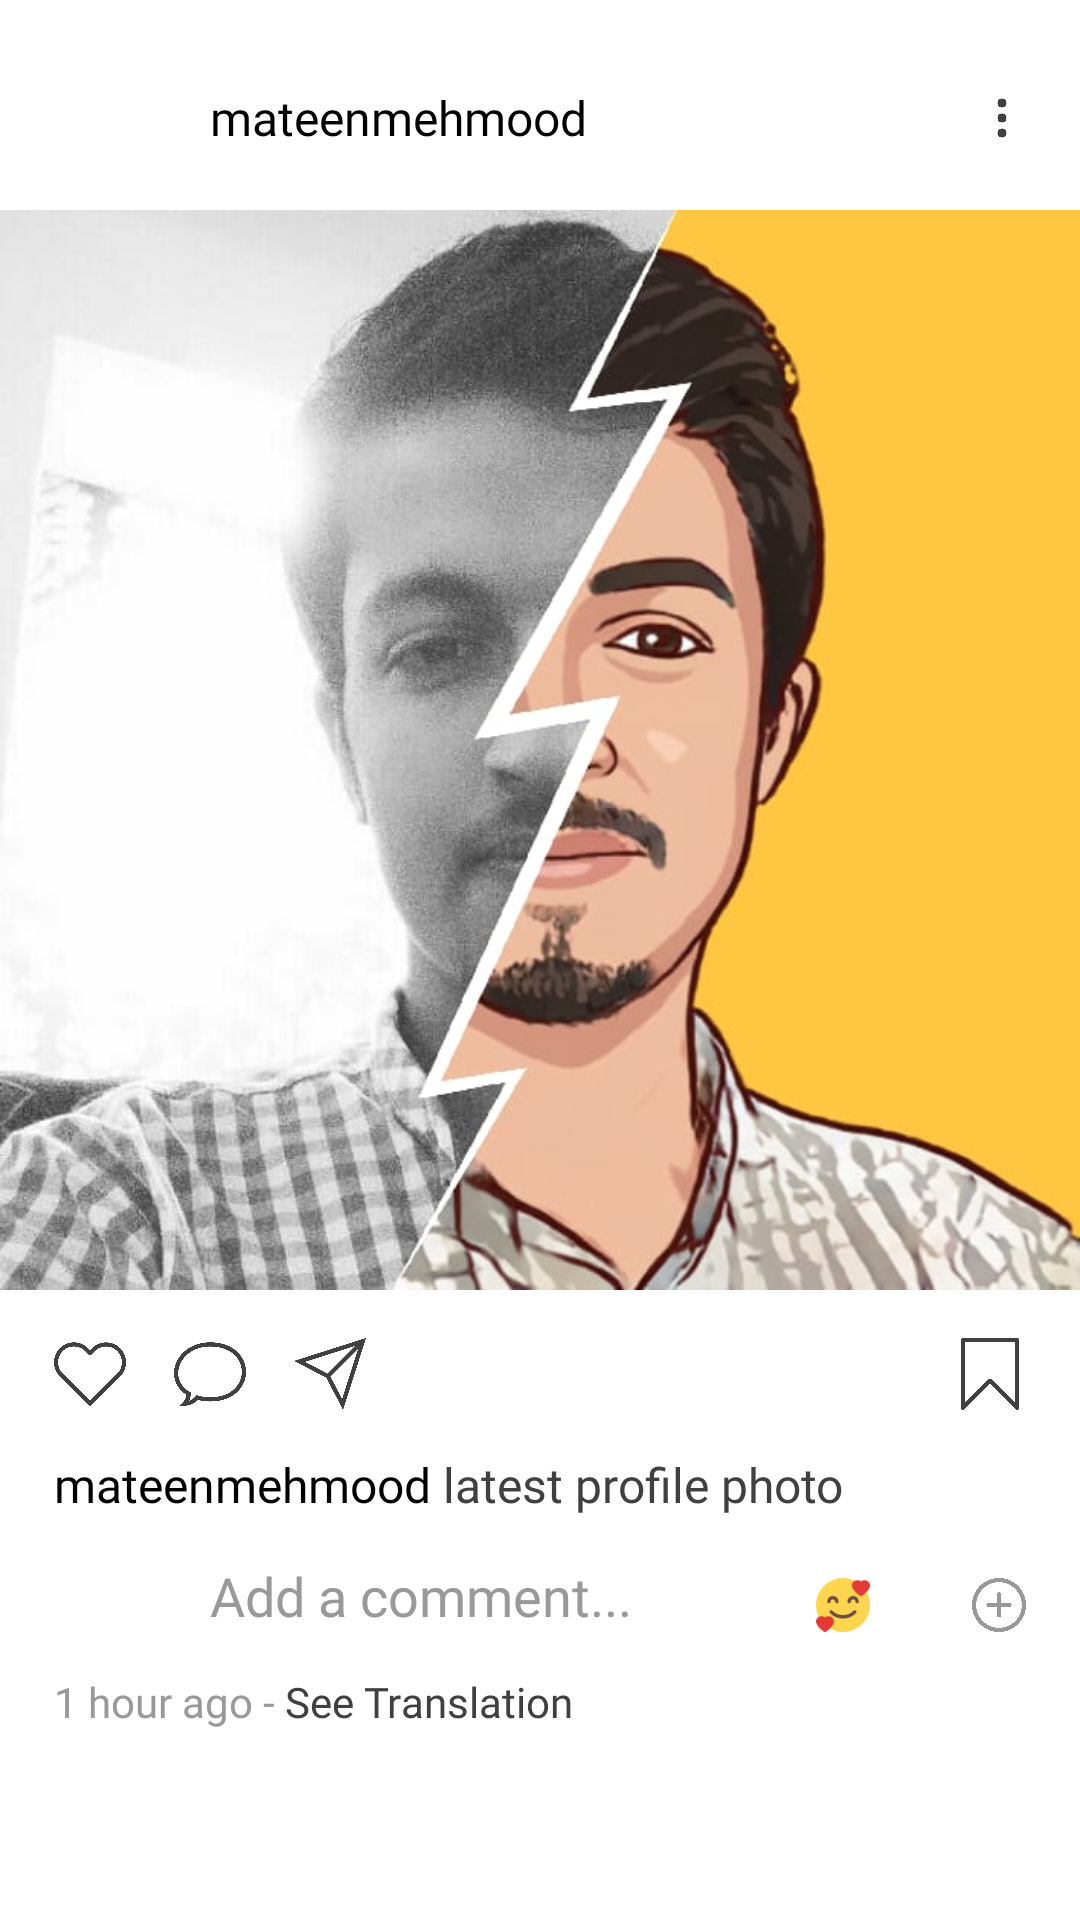

Icons on this 1080w x 1920h Android screen, each with its box as (x1, y1, x2, y2):
add: (972, 1578, 1026, 1632)
bookmark: (961, 1338, 1019, 1410)
chat: (174, 1342, 246, 1406)
dots: (997, 98, 1007, 138)
heart: (54, 1342, 126, 1406)
send: (295, 1338, 366, 1409)
smile: (816, 1578, 870, 1632)
